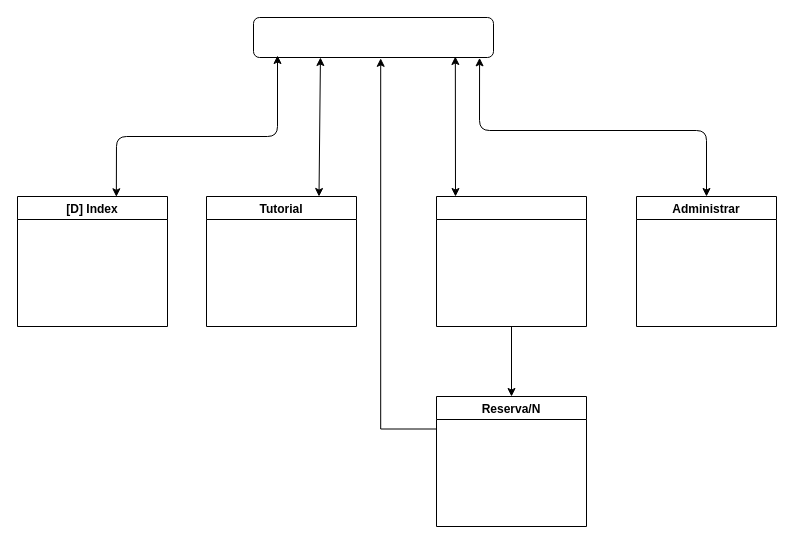
The diagram is 794 pixels wide and 544 high, and some of its shapes have lost their labels. Here are the shapes that lost their labels. From the top down, the centre of each, then its label:
the point at 373,37: Navbar
the point at 511,261: Pistas
